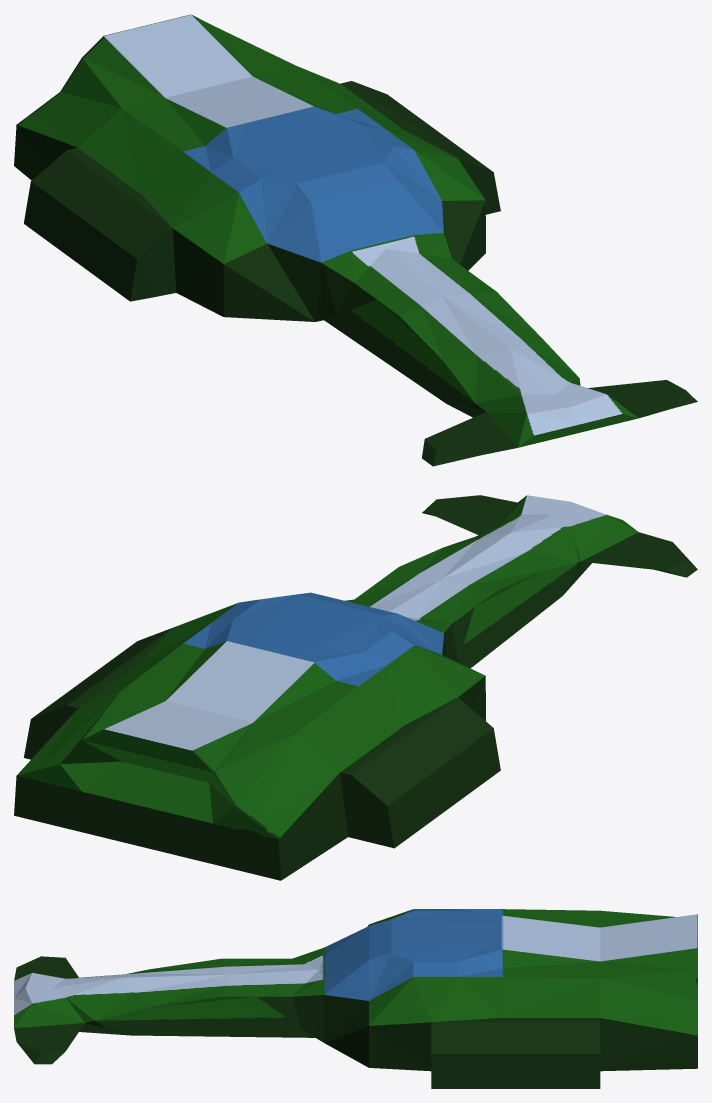
Rendered from TheDruid2.fbx.
3 views of the same model, one above another, from view 1: azimuth 30°, elevation 25°; view 2: azimuth 150°, elevation 25°; view 3: azimuth 270°, elevation 25° (orthographic). The views are drawn at different scales.
Visible parts, largest first — view 1: Plane; view 2: Plane; view 3: Plane.
Boxes of the visible parts, bbox=[...] form: Plane: bbox=[14, 14, 697, 466]; Plane: bbox=[14, 495, 697, 880]; Plane: bbox=[14, 909, 697, 1088].
Size of the model in its own units: 95.54 by 27.18 by 192.
